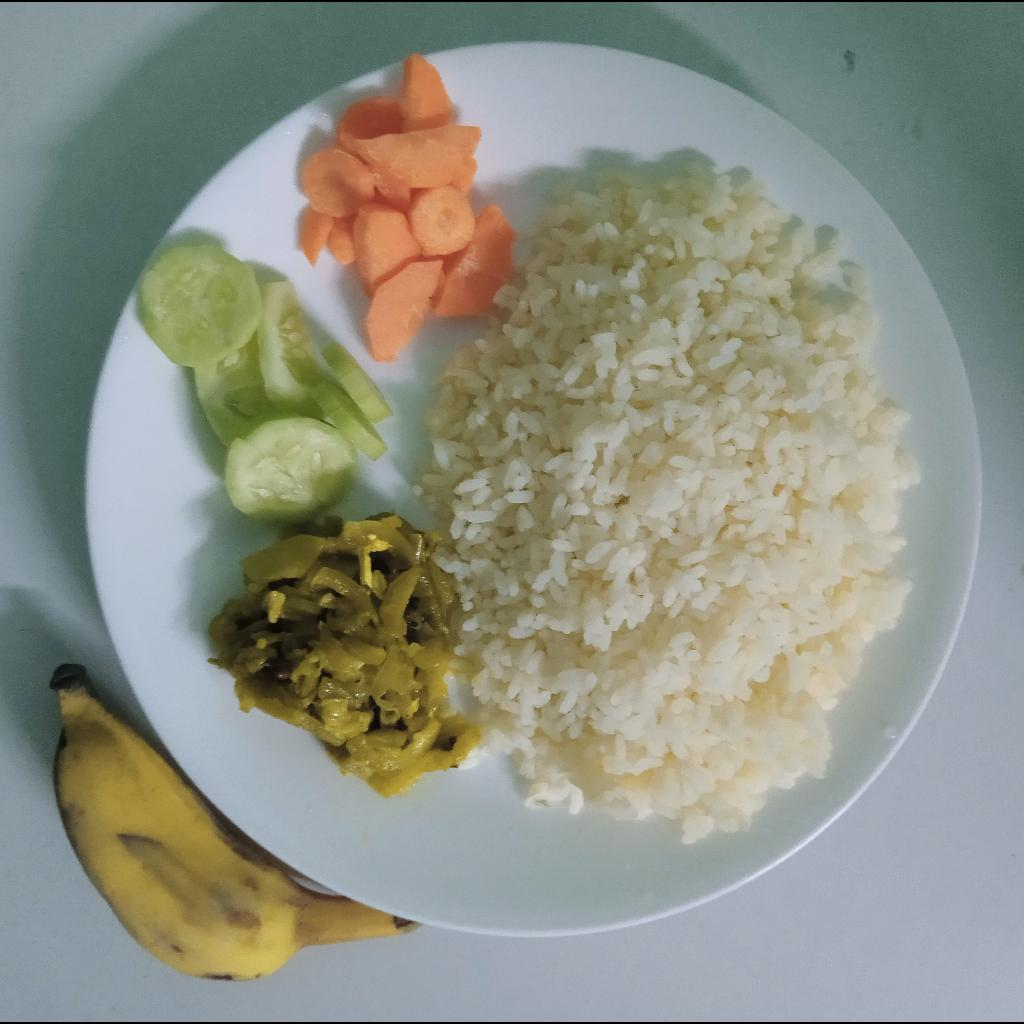banana: (49, 664, 425, 983)
carrot: (300, 54, 518, 363)
cucumber: (135, 243, 396, 521)
rice: (414, 170, 924, 832)
vegetable: (211, 512, 481, 797)
